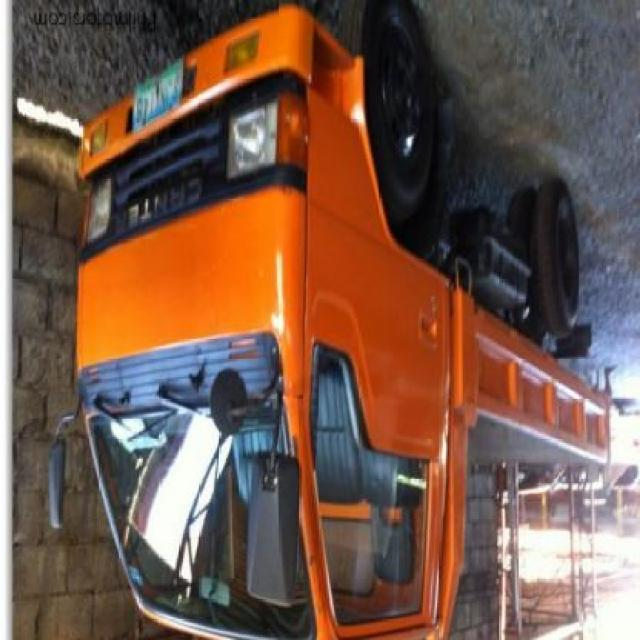truck: (51, 13, 614, 640)
